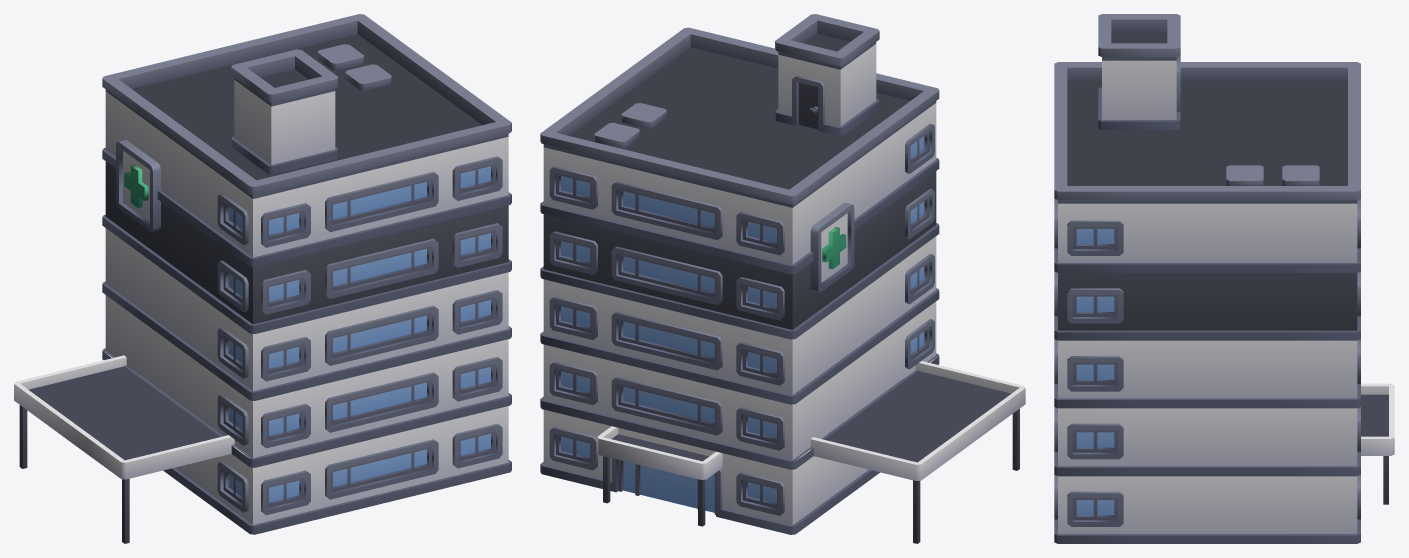
Rendered from c_building-n.glb.
The picture shows the model from 3 angles, left to right: view 1: azimuth 30°, elevation 25°; view 2: azimuth 150°, elevation 25°; view 3: azimuth 270°, elevation 25°; orthographic projection. The views are drawn at different scales.
Visible parts, largest first — view 1: building-n; view 2: building-n; view 3: building-n.
Boxes of the visible parts, x1,y1,x2,y2 form: building-n: [14, 14, 511, 543]; building-n: [540, 14, 1025, 543]; building-n: [1054, 14, 1394, 543].
Size of the model in its own units: 2.32 by 2.48 by 1.82.
Materials: 1 (1 with a texture image).
